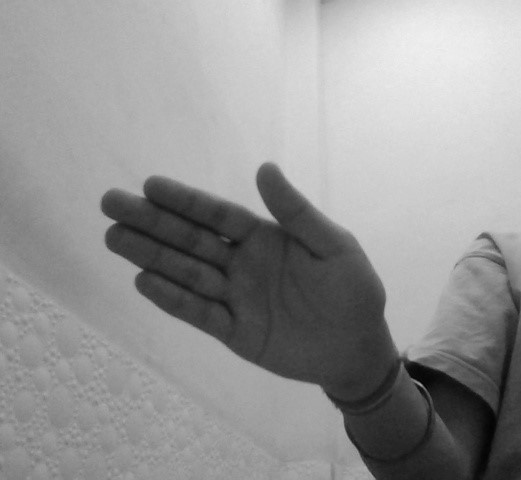Hello: (93, 159, 387, 402)
